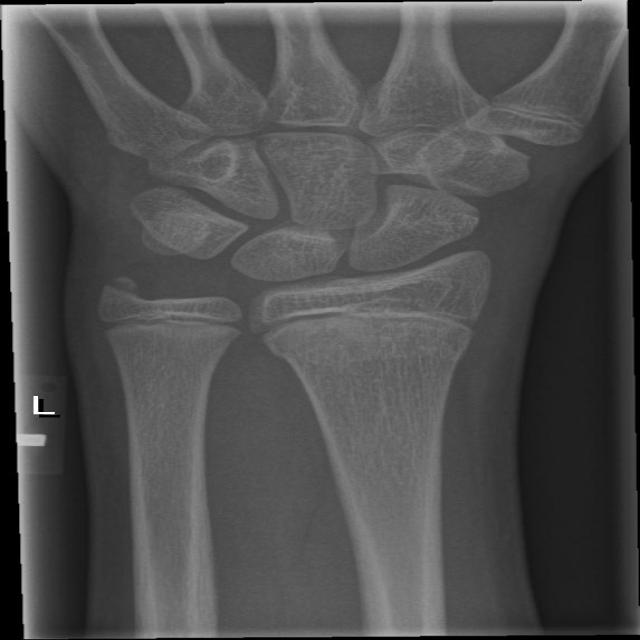fracture: (242, 285, 506, 357), (88, 290, 263, 350)
